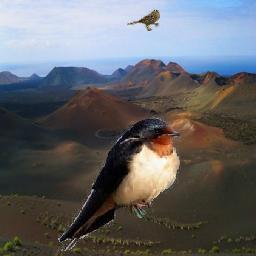Sparrow: (128, 9, 161, 31)
Swallow: (59, 117, 182, 251)
